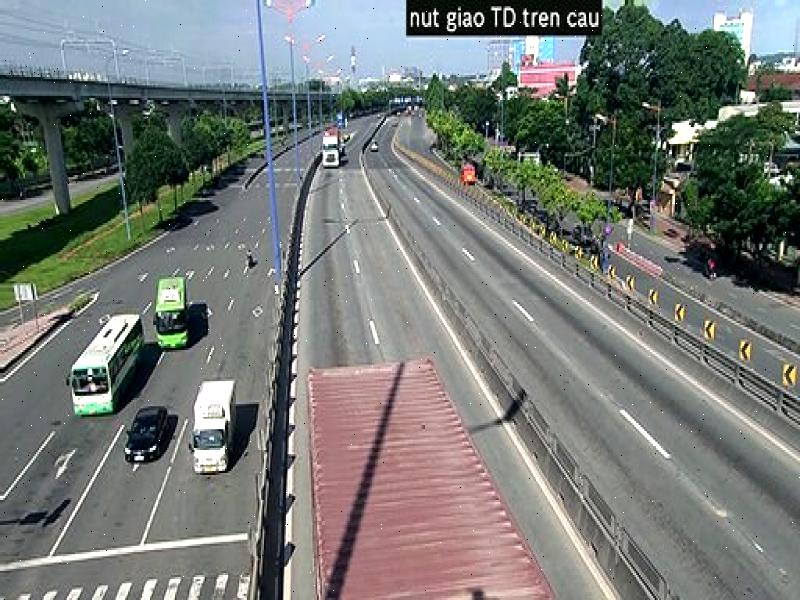bus: (70, 313, 150, 420), (152, 274, 192, 356)
truck: (186, 371, 243, 490)
